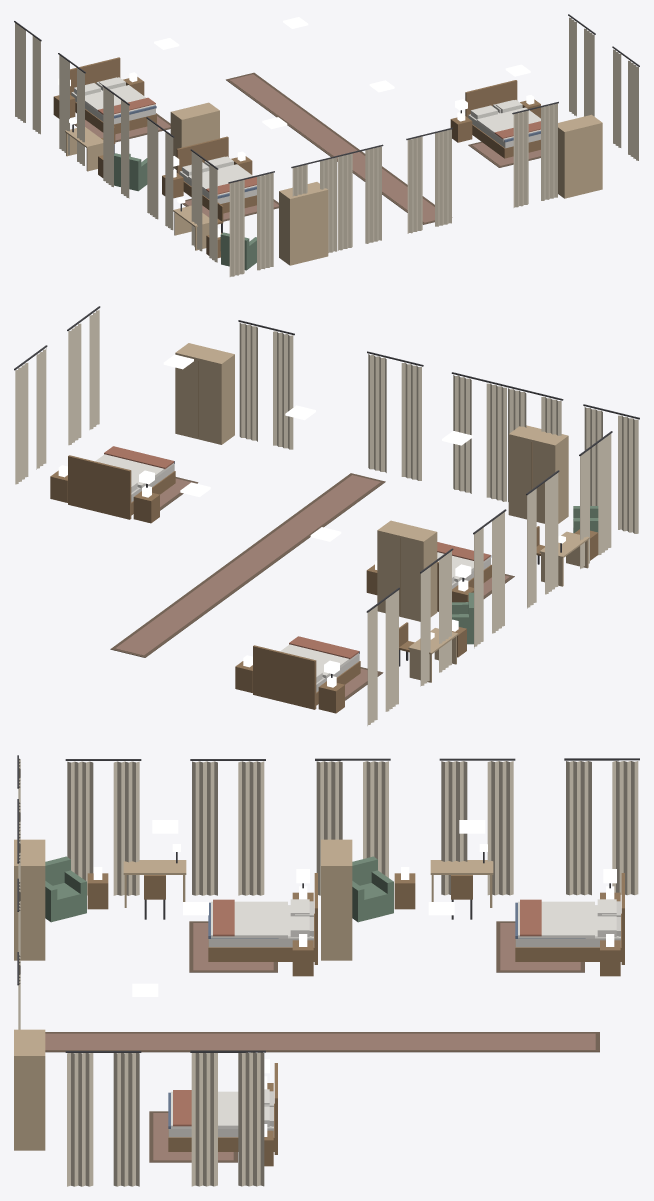
File: fine-s2.glb
3 views of the same model, one above another, from view 1: azimuth 30°, elevation 25°; view 2: azimuth 150°, elevation 25°; view 3: azimuth 270°, elevation 25° (orthographic). The views are drawn at different scales.
Visible parts, largest first — view 1: soft-s2, dresser.005, dresser.003, bed-frame.003, bed-frame.004, dresser.004, bed-frame.005, writing-desk.002, writing-desk.003, lounge-chair.002, lounge-chair.003, nightstand.006; view 2: soft-s2, dresser.003, dresser.004, dresser.005, bed-frame.004, bed-frame.003, writing-desk.003, writing-desk.002, nightstand.008, nightstand.006, lounge-chair.002; view 3: soft-s2, dresser.003, dresser.004, dresser.005, bed-frame.004, bed-frame.005, lounge-chair.003, lounge-chair.002, bed-frame.003, writing-desk.003, writing-desk.002, side-table.003 (+5 smaller).
Part boxes in pixels (x1,y1,x2,y2): soft-s2: (14,14,639,276); dresser.005: (279,182,328,265); dresser.003: (558,114,602,198); bed-frame.003: (465,80,540,158); bed-frame.004: (70,57,156,134); dresser.004: (170,102,219,169); bed-frame.005: (176,136,256,213); writing-desk.002: (65,118,103,171); writing-desk.003: (173,197,209,250); lounge-chair.002: (114,153,147,191); lounge-chair.003: (220,232,256,270); nightstand.006: (450,111,472,142); soft-s2: (14,306,639,725); dresser.003: (175,343,234,444); dresser.004: (377,520,437,621); dresser.005: (508,425,568,523); bed-frame.004: (253,645,360,709); bed-frame.003: (68,455,175,519); writing-desk.003: (539,531,589,586); writing-desk.002: (408,628,458,682); nightstand.008: (318,675,344,713); nightstand.006: (133,485,159,523); lounge-chair.002: (452,592,473,644); soft-s2: (17,755,639,1186); dresser.003: (14,1029,45,1150); dresser.004: (321,839,352,960); dresser.005: (14,839,45,960); bed-frame.004: (515,873,624,964); bed-frame.005: (208,873,317,964); lounge-chair.003: (45,856,86,922); lounge-chair.002: (352,856,393,922); bed-frame.003: (168,1063,277,1154); writing-desk.003: (123,844,186,907); writing-desk.002: (430,844,493,907); side-table.003: (87,867,108,909).
Size of the model in its own units: 13.44 by 2.91 by 12.
